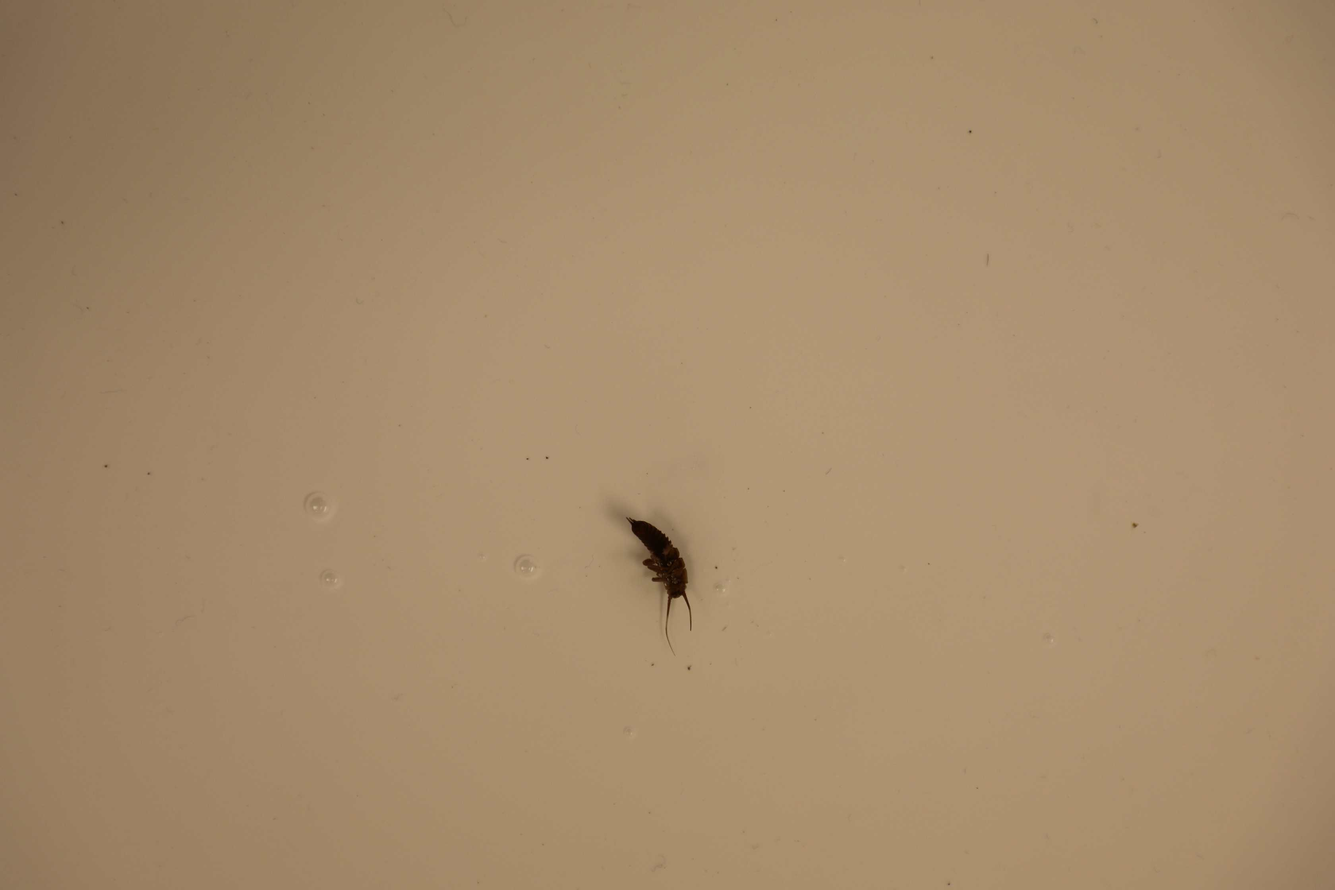Stonefly: (618, 514, 695, 657)
